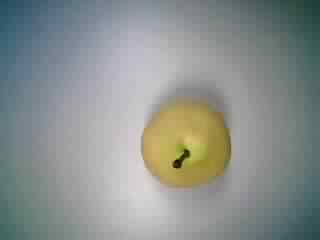pear: (129, 98, 238, 200)
